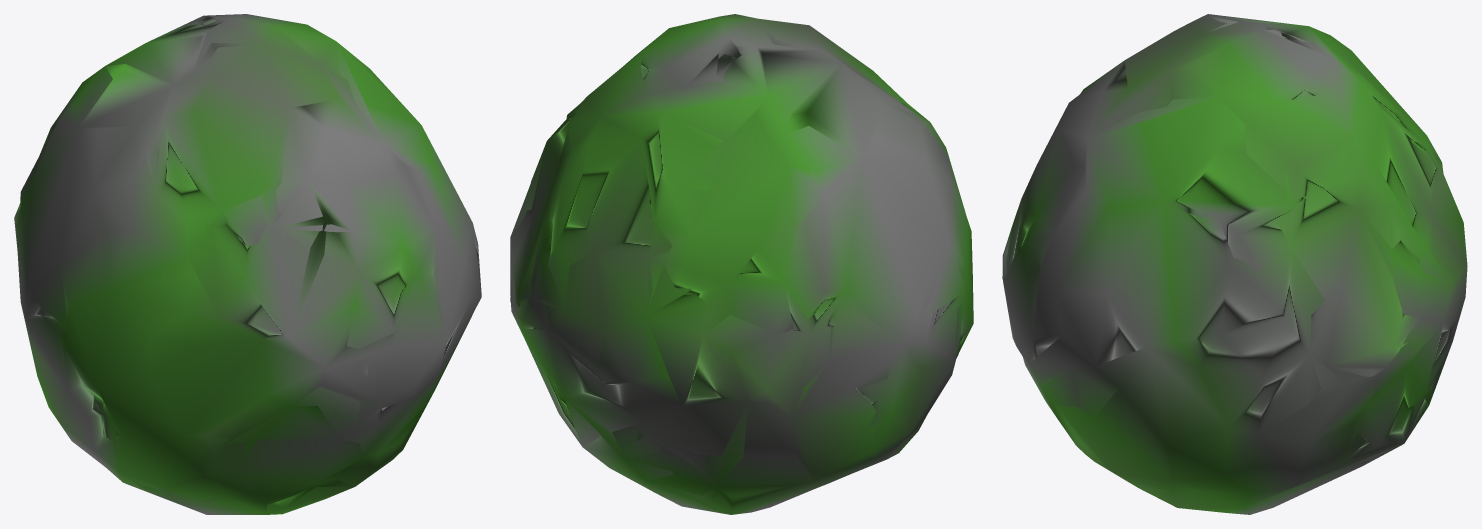
Rendered from gen3d-mossy-boulder-lod1.glb.
3 views of the same model, side by side, from view 1: azimuth 30°, elevation 25°; view 2: azimuth 150°, elevation 25°; view 3: azimuth 270°, elevation 25° (orthographic).
Visible parts, largest first — view 1: part_0; view 2: part_0; view 3: part_0.
Boxes of the visible parts, x1,y1,x2,y2 form: part_0: (14, 14, 481, 514); part_0: (510, 14, 973, 514); part_0: (1002, 14, 1467, 514).
Bounding box in the file's own units: 0.8836 × 0.9974 × 0.8941.
